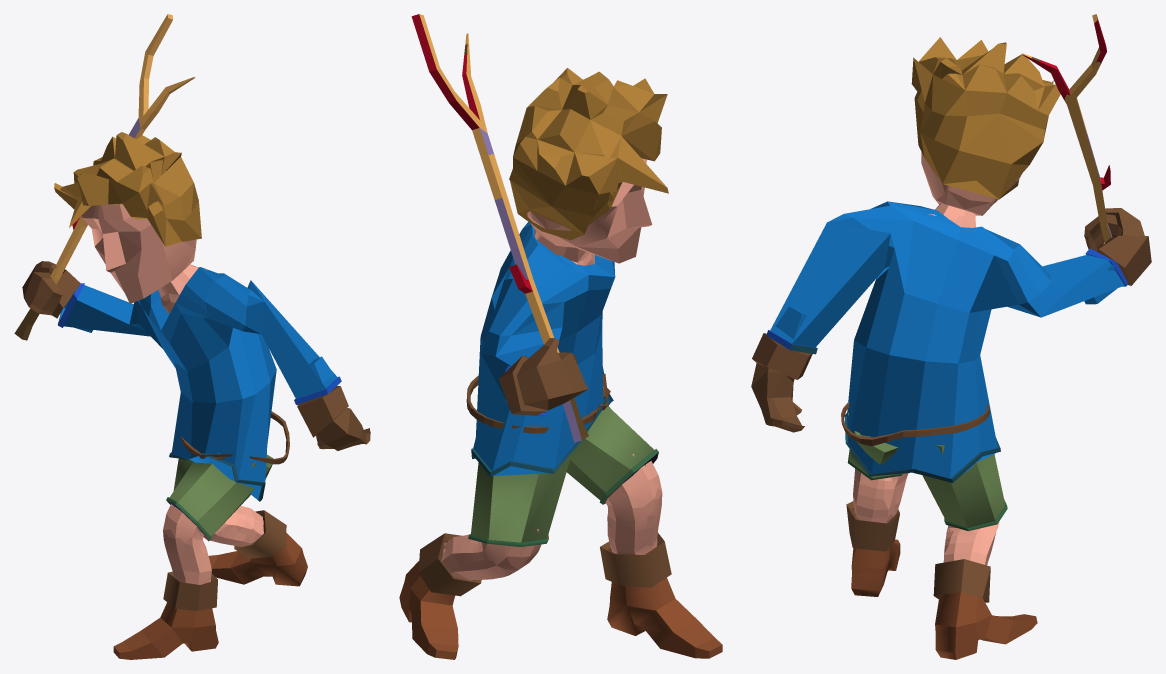
The model's file is attackStick2.obj.
The picture shows the model from 3 angles, left to right: view 1: azimuth 30°, elevation 25°; view 2: azimuth 150°, elevation 25°; view 3: azimuth 270°, elevation 25°; orthographic projection. The views are drawn at different scales.
Parts seen in each view (by area): view 1: Jacket__jaket_Cylinder.001_Jacket__jaket_Cylinder.001_P_e8d5c2c_, Hair_Hair__Cube.000_Hair_Hair__Cube.000_PlayerMaterialOfficial_H, Head_Head_Cube.000_Head_Head_Cube.000_PlayerMaterialOfficial_Hea, Boot_right_bota_Cube.000_Boot_right_bota_Cube.000_Playe_7d61669_, Humanoide_Body_Base_Modified_Humanoide_Base_Base_NPC__c_7f84192_, Boot_left_bota_Cube.001_Boot_left_bota_Cube.001_PlayerM_5d38611_, Trausers_trausers_Cylinder.000_Trausers_trausers_Cylind_bfdf796_, Cube_Cube.001, Globe_right_globe_Cylinder.005_Globe_right_globe_Cylind_70ee9c7_, Globe_left_globe_Cylinder.001_Globe_left_globe_Cylinder_383ca3a_, Belt_Cylinder.001_Belt_Cylinder.001_PlayerMaterialOfficial_Belt_; view 2: Jacket__jaket_Cylinder.001_Jacket__jaket_Cylinder.001_P_e8d5c2c_, Hair_Hair__Cube.000_Hair_Hair__Cube.000_PlayerMaterialOfficial_H, Trausers_trausers_Cylinder.000_Trausers_trausers_Cylind_bfdf796_, Humanoide_Body_Base_Modified_Humanoide_Base_Base_NPC__c_7f84192_, Boot_right_bota_Cube.000_Boot_right_bota_Cube.000_Playe_7d61669_, Cube_Cube.001, Boot_left_bota_Cube.001_Boot_left_bota_Cube.001_PlayerM_5d38611_, Globe_left_globe_Cylinder.001_Globe_left_globe_Cylinder_383ca3a_, Head_Head_Cube.000_Head_Head_Cube.000_PlayerMaterialOfficial_Hea, Belt_Cylinder.001_Belt_Cylinder.001_PlayerMaterialOfficial_Belt_; view 3: Jacket__jaket_Cylinder.001_Jacket__jaket_Cylinder.001_P_e8d5c2c_, Hair_Hair__Cube.000_Hair_Hair__Cube.000_PlayerMaterialOfficial_H, Boot_left_bota_Cube.001_Boot_left_bota_Cube.001_PlayerM_5d38611_, Trausers_trausers_Cylinder.000_Trausers_trausers_Cylind_bfdf796_, Humanoide_Body_Base_Modified_Humanoide_Base_Base_NPC__c_7f84192_, Globe_right_globe_Cylinder.005_Globe_right_globe_Cylind_70ee9c7_, Boot_right_bota_Cube.000_Boot_right_bota_Cube.000_Playe_7d61669_, Cube_Cube.001, Globe_left_globe_Cylinder.001_Globe_left_globe_Cylinder_383ca3a_, Head_Head_Cube.000_Head_Head_Cube.000_PlayerMaterialOfficial_Hea, Belt_Cylinder.001_Belt_Cylinder.001_PlayerMaterialOfficial_Belt_.
Part boxes in pixels (left/top/right/bottom): Jacket__jaket_Cylinder.001_Jacket__jaket_Cylinder.001_P_e8d5c2c_: left=58, top=267, right=341, bottom=501; Hair_Hair__Cube.000_Hair_Hair__Cube.000_PlayerMaterialOfficial_H: left=54, top=132, right=201, bottom=246; Head_Head_Cube.000_Head_Head_Cube.000_PlayerMaterialOfficial_Hea: left=82, top=171, right=196, bottom=303; Boot_right_bota_Cube.000_Boot_right_bota_Cube.000_Playe_7d61669_: left=113, top=571, right=218, bottom=659; Humanoide_Body_Base_Modified_Humanoide_Base_Base_NPC__c_7f84192_: left=158, top=264, right=263, bottom=584; Boot_left_bota_Cube.001_Boot_left_bota_Cube.001_PlayerM_5d38611_: left=208, top=510, right=307, bottom=586; Trausers_trausers_Cylinder.000_Trausers_trausers_Cylind_bfdf796_: left=166, top=454, right=273, bottom=541; Cube_Cube.001: left=14, top=14, right=195, bottom=340; Globe_right_globe_Cylinder.005_Globe_right_globe_Cylind_70ee9c7_: left=297, top=386, right=370, bottom=450; Globe_left_globe_Cylinder.001_Globe_left_globe_Cylinder_383ca3a_: left=22, top=261, right=80, bottom=318; Belt_Cylinder.001_Belt_Cylinder.001_PlayerMaterialOfficial_Belt_: left=181, top=411, right=289, bottom=464; Jacket__jaket_Cylinder.001_Jacket__jaket_Cylinder.001_P_e8d5c2c_: left=471, top=222, right=615, bottom=476; Hair_Hair__Cube.000_Hair_Hair__Cube.000_PlayerMaterialOfficial_H: left=509, top=68, right=668, bottom=240; Trausers_trausers_Cylinder.000_Trausers_trausers_Cylind_bfdf796_: left=468, top=406, right=658, bottom=546; Humanoide_Body_Base_Modified_Humanoide_Base_Base_NPC__c_7f84192_: left=441, top=229, right=662, bottom=580; Boot_right_bota_Cube.000_Boot_right_bota_Cube.000_Playe_7d61669_: left=600, top=533, right=722, bottom=658; Cube_Cube.001: left=411, top=14, right=588, bottom=442; Boot_left_bota_Cube.001_Boot_left_bota_Cube.001_PlayerM_5d38611_: left=399, top=533, right=481, bottom=659; Globe_left_globe_Cylinder.001_Globe_left_globe_Cylinder_383ca3a_: left=498, top=338, right=588, bottom=415; Head_Head_Cube.000_Head_Head_Cube.000_PlayerMaterialOfficial_Hea: left=527, top=158, right=652, bottom=263; Belt_Cylinder.001_Belt_Cylinder.001_PlayerMaterialOfficial_Belt_: left=466, top=375, right=600, bottom=433; Jacket__jaket_Cylinder.001_Jacket__jaket_Cylinder.001_P_e8d5c2c_: left=766, top=201, right=1127, bottom=482; Hair_Hair__Cube.000_Hair_Hair__Cube.000_PlayerMaterialOfficial_H: left=911, top=37, right=1060, bottom=199; Boot_left_bota_Cube.001_Boot_left_bota_Cube.001_PlayerM_5d38611_: left=933, top=559, right=1037, bottom=659; Trausers_trausers_Cylinder.000_Trausers_trausers_Cylind_bfdf796_: left=847, top=413, right=1007, bottom=531; Humanoide_Body_Base_Modified_Humanoide_Base_Base_NPC__c_7f84192_: left=853, top=203, right=999, bottom=565; Globe_right_globe_Cylinder.005_Globe_right_globe_Cylind_70ee9c7_: left=751, top=333, right=812, bottom=432; Boot_right_bota_Cube.000_Boot_right_bota_Cube.000_Playe_7d61669_: left=846, top=501, right=900, bottom=596; Cube_Cube.001: left=1022, top=14, right=1112, bottom=242; Globe_left_globe_Cylinder.001_Globe_left_globe_Cylinder_383ca3a_: left=1084, top=208, right=1151, bottom=285; Head_Head_Cube.000_Head_Head_Cube.000_PlayerMaterialOfficial_Hea: left=921, top=152, right=1021, bottom=215; Belt_Cylinder.001_Belt_Cylinder.001_PlayerMaterialOfficial_Belt_: left=841, top=402, right=989, bottom=446.
Size of the model in its own units: 17.92 by 41.09 by 24.29.
